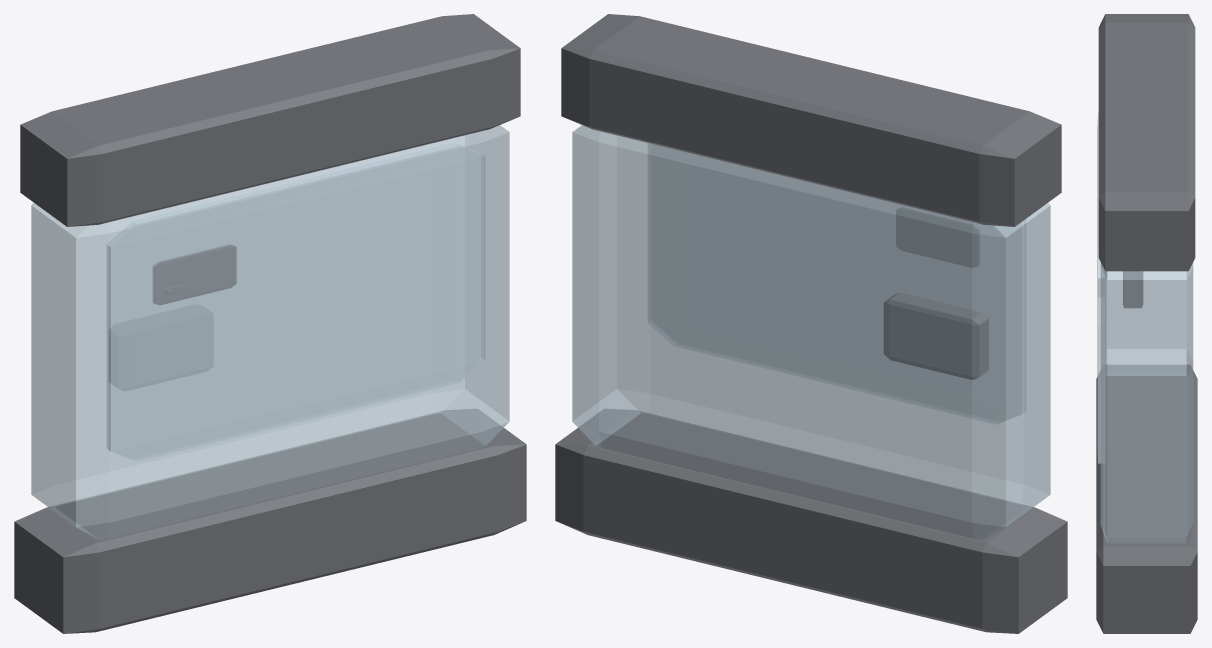
File: b12_glass_block_window_panel.glb
The picture shows the model from 3 angles, left to right: view 1: azimuth 30°, elevation 25°; view 2: azimuth 150°, elevation 25°; view 3: azimuth 270°, elevation 25°; orthographic projection. The views are drawn at different scales.
Visible parts, largest first — view 1: b12_glass_block_window_panel; view 2: b12_glass_block_window_panel; view 3: b12_glass_block_window_panel.
Boxes of the visible parts, x1,y1,x2,y2 form: b12_glass_block_window_panel: [14, 14, 526, 633]; b12_glass_block_window_panel: [555, 14, 1067, 633]; b12_glass_block_window_panel: [1096, 14, 1197, 633].
Size of the model in its own units: 1.27 by 1.27 by 0.27.
